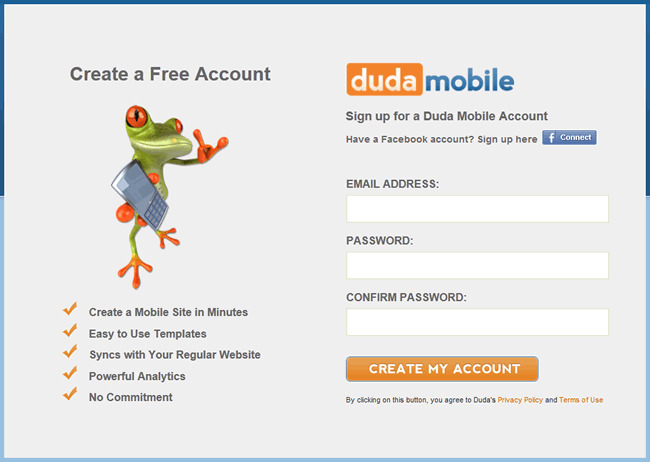_form_: (221, 21, 637, 437)
button: (345, 355, 539, 383), (542, 128, 597, 145)
field: (345, 192, 609, 224), (344, 249, 609, 280), (345, 305, 609, 336)
field_with_label: (343, 177, 612, 227), (343, 291, 612, 339), (342, 236, 611, 282)
